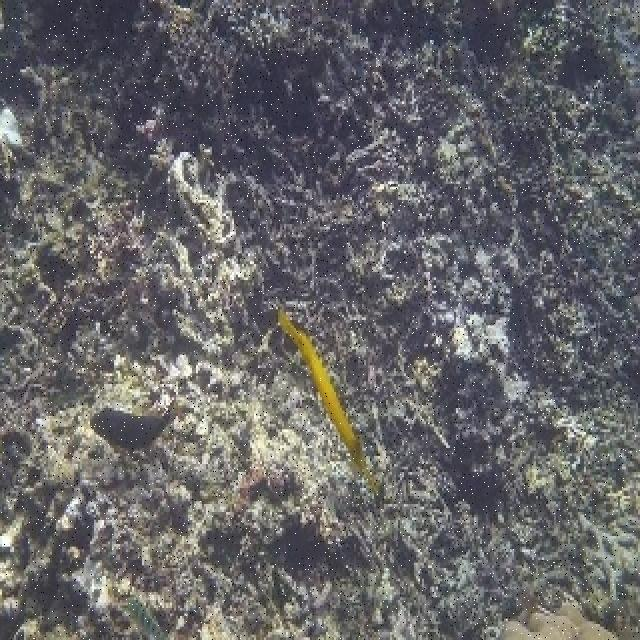reefs: (278, 305, 365, 479), (90, 378, 177, 452)
